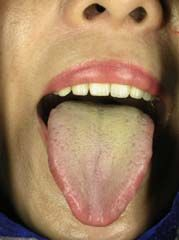huangtaishe: (47, 101, 154, 227)
